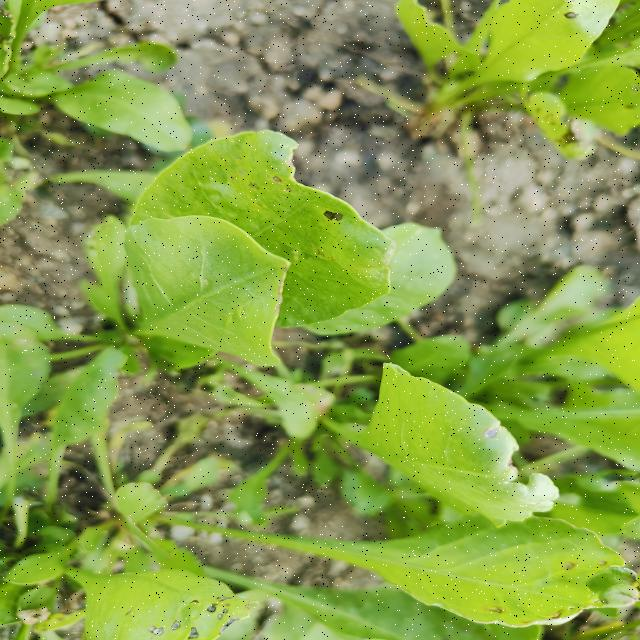half-leaf: (122, 103, 438, 349)
leaves: (153, 449, 640, 638), (297, 358, 570, 529), (98, 203, 313, 379), (193, 539, 558, 640), (52, 514, 255, 640)
